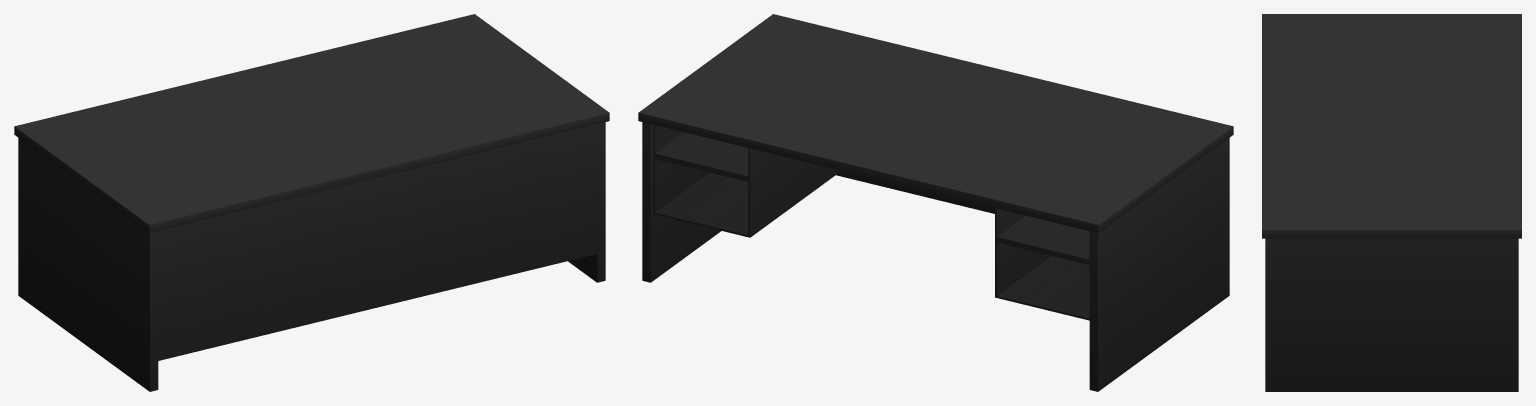
Rendered from Table_OfficeDesk4_Open.fbx.
3 renders of one model, left to right at view 1: azimuth 30°, elevation 25°; view 2: azimuth 150°, elevation 25°; view 3: azimuth 270°, elevation 25°, orthographic. The views are drawn at different scales.
Visible parts, largest first — view 1: Table_OfficeDesk4_Open; view 2: Table_OfficeDesk4_Open; view 3: Table_OfficeDesk4_Open.
Part boxes in pixels (x1,y1,x2,y2): Table_OfficeDesk4_Open: (14, 14, 609, 391); Table_OfficeDesk4_Open: (638, 14, 1233, 391); Table_OfficeDesk4_Open: (1262, 14, 1521, 391).
Bounding box in the file's own units: 210 × 73.44 × 106.
